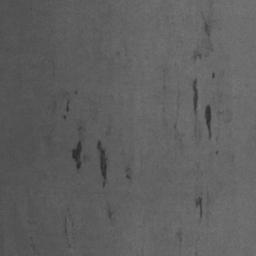Iron scale compression: (97, 141, 107, 188), (72, 141, 82, 170), (200, 14, 211, 38), (205, 106, 211, 140), (193, 79, 199, 112), (191, 50, 203, 64), (196, 196, 202, 218)
